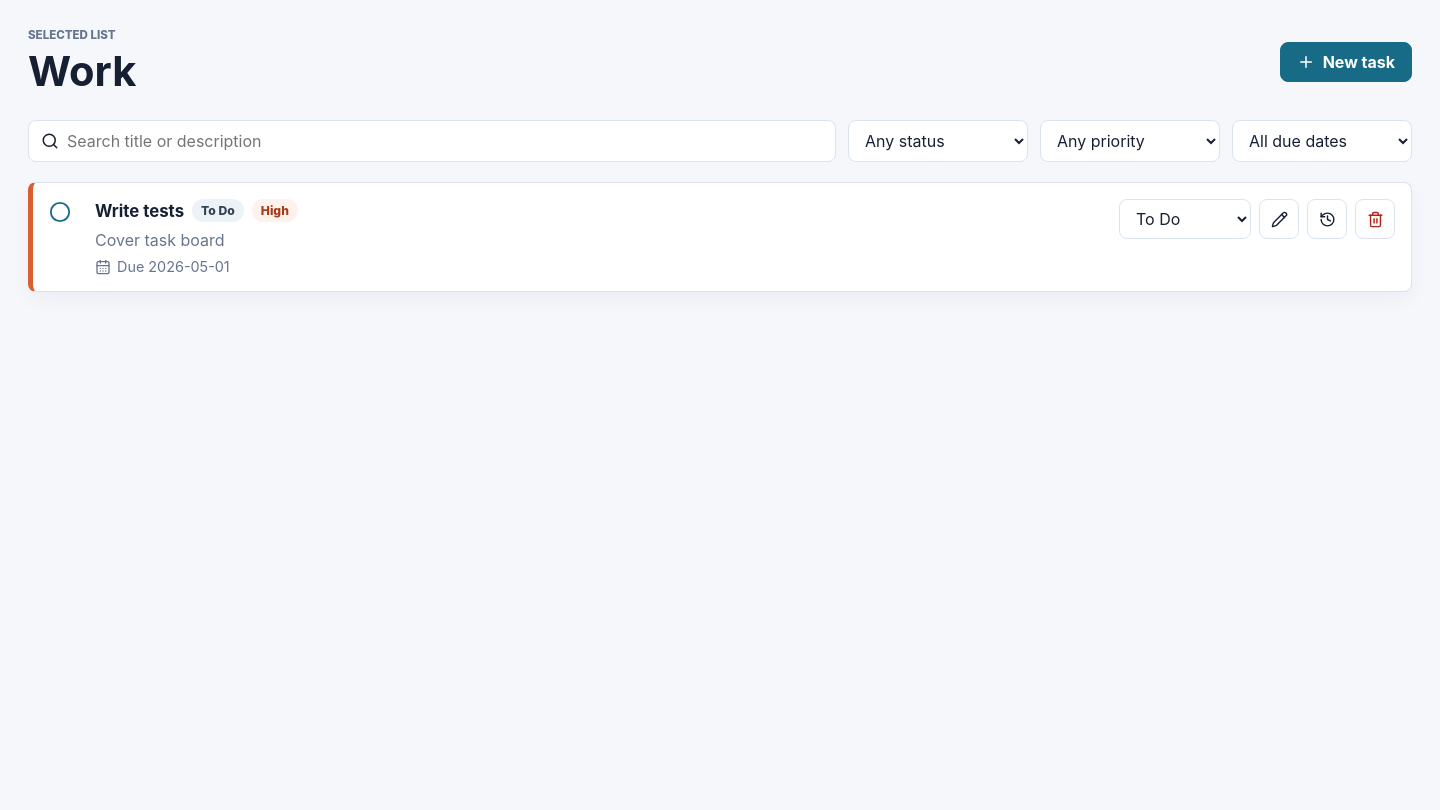
it: TaskBoard › clicking a history entry row renders TaskHistoryModal
Expected: the heading "Write tests" is shown, [95,200,184,220]
Click the button named "history for write tests": x=1327, y=219 [1307,199,1347,239]
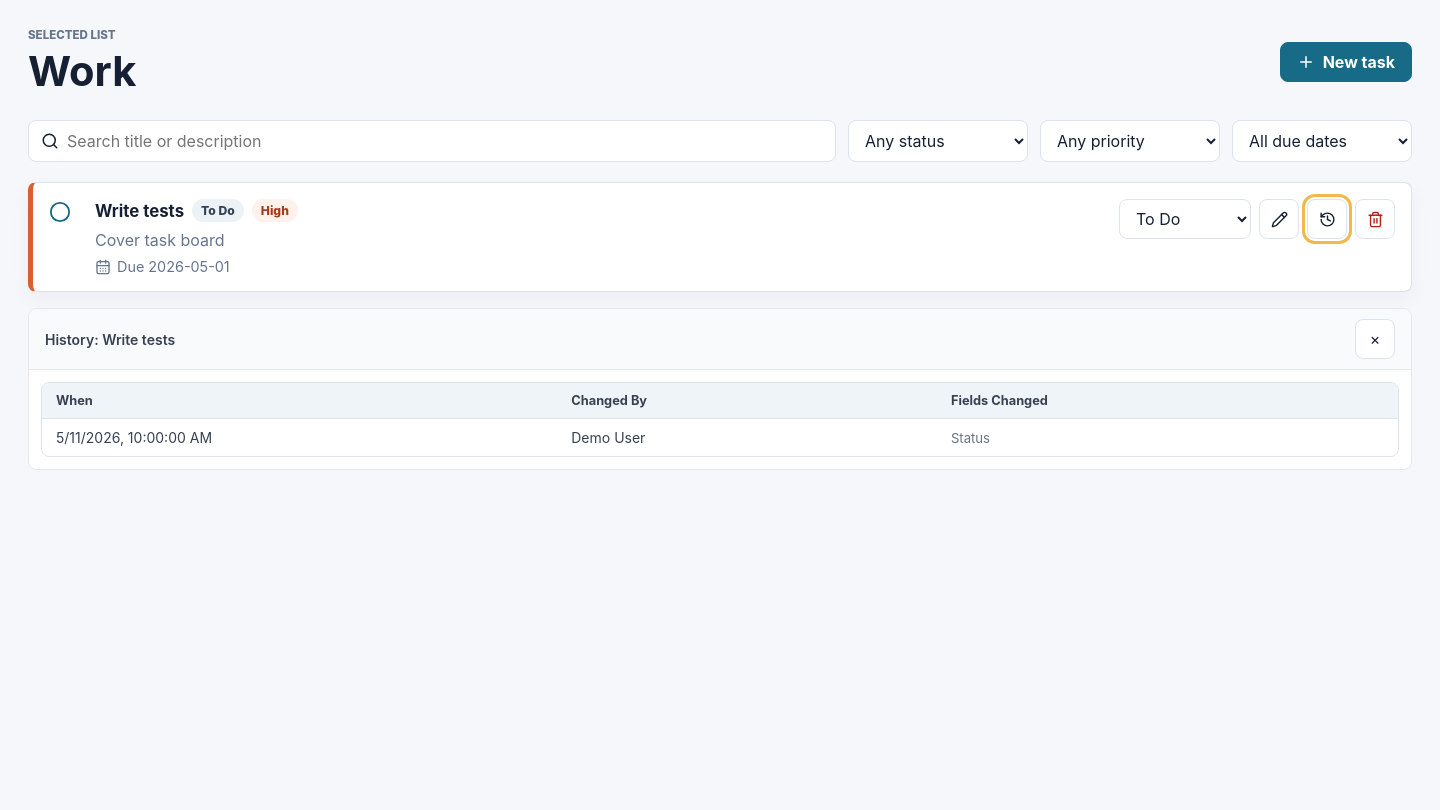
Expected: the text "Demo User" is shown
Click the text "Demo User": x=608, y=438 [557,419,937,456]
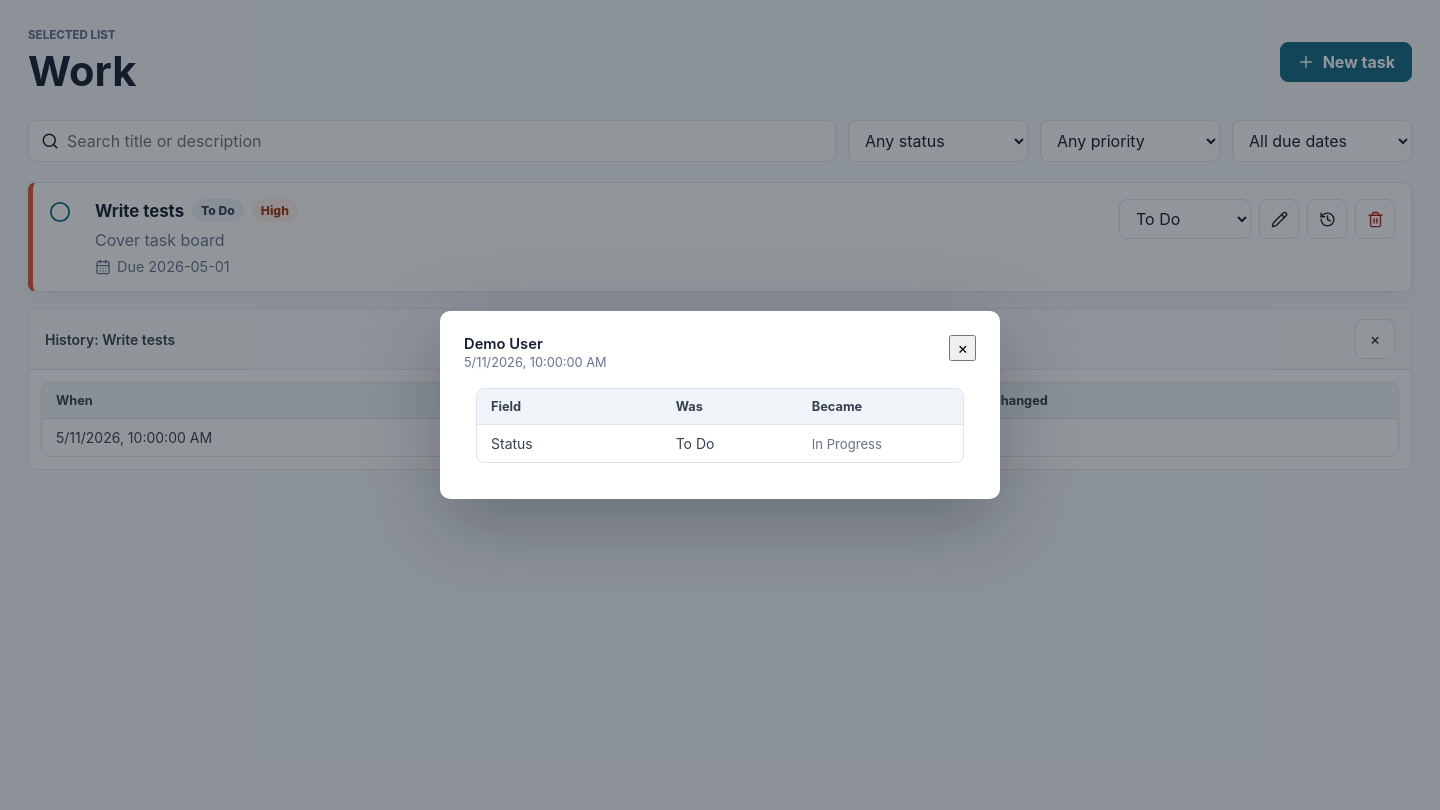
Expected: the element with test id "modal-backdrop" is shown
